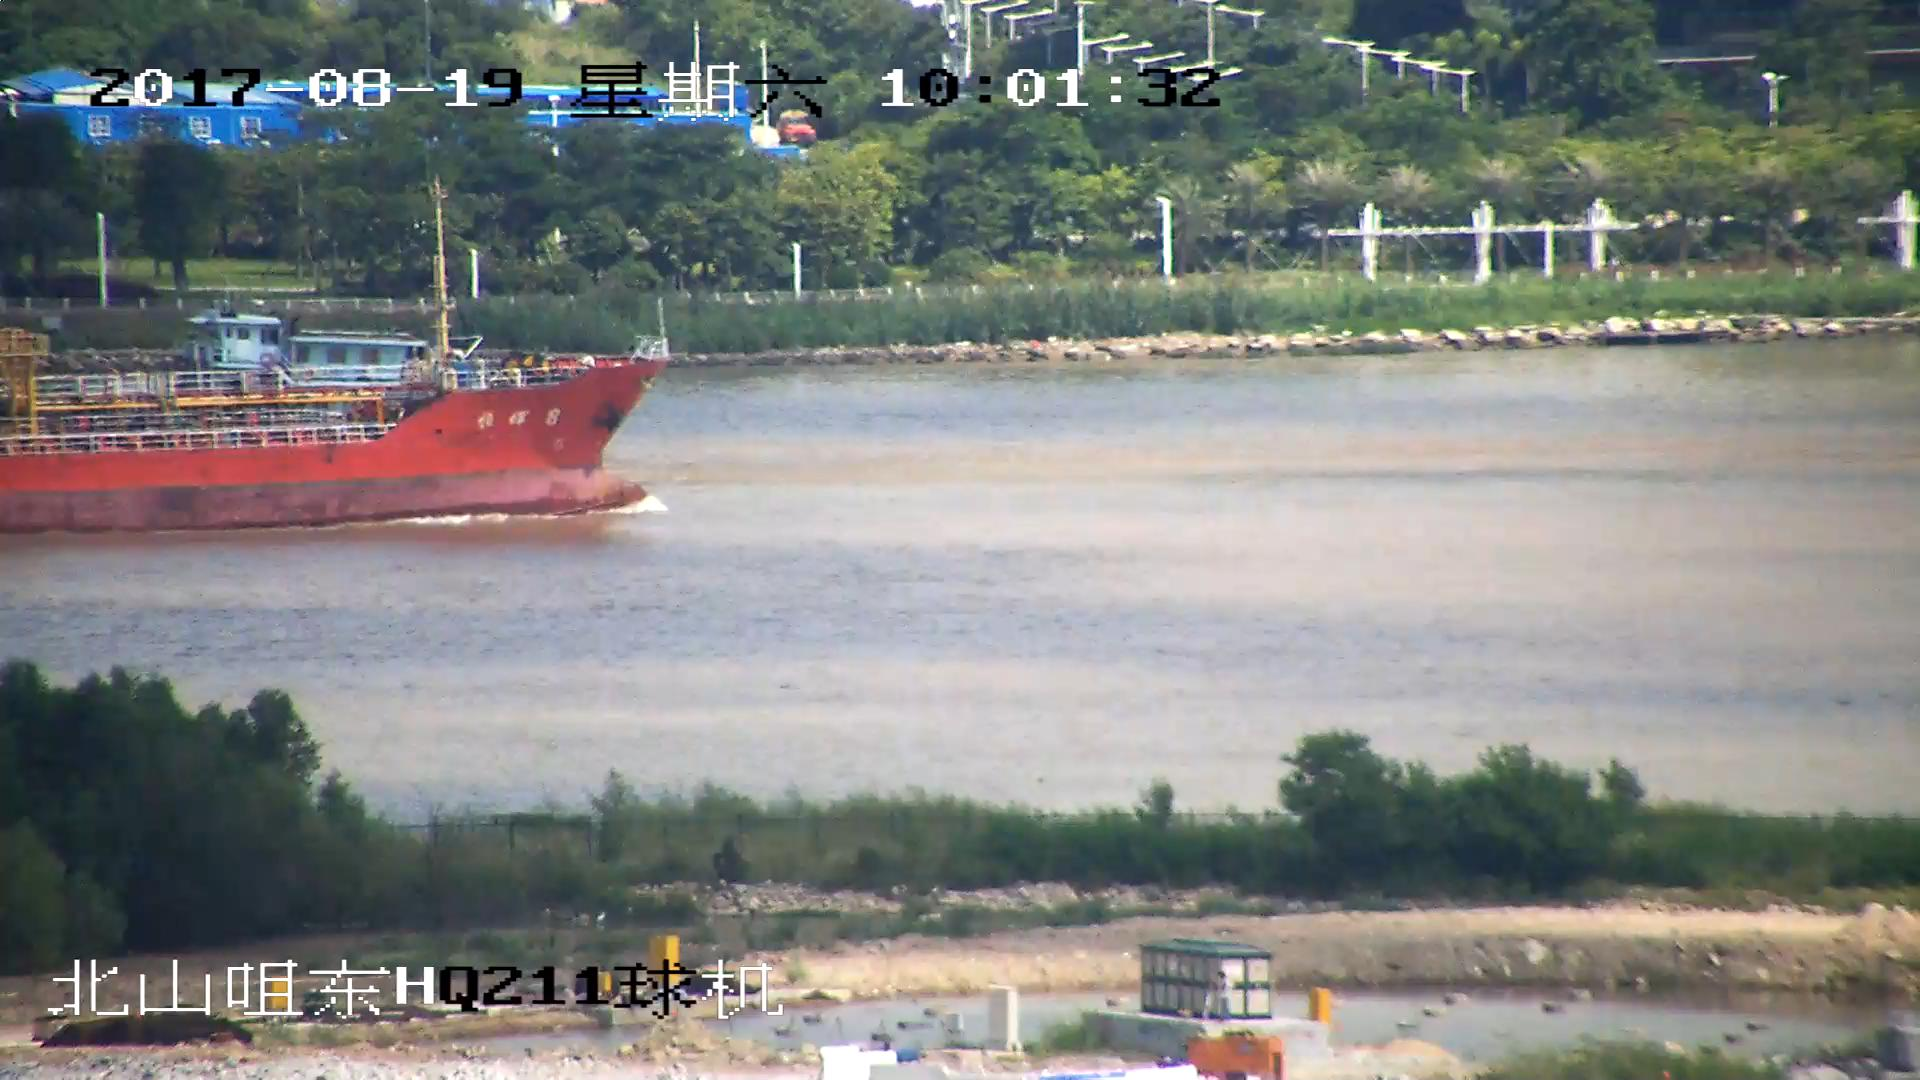general cargo ship: (1, 180, 673, 528)
